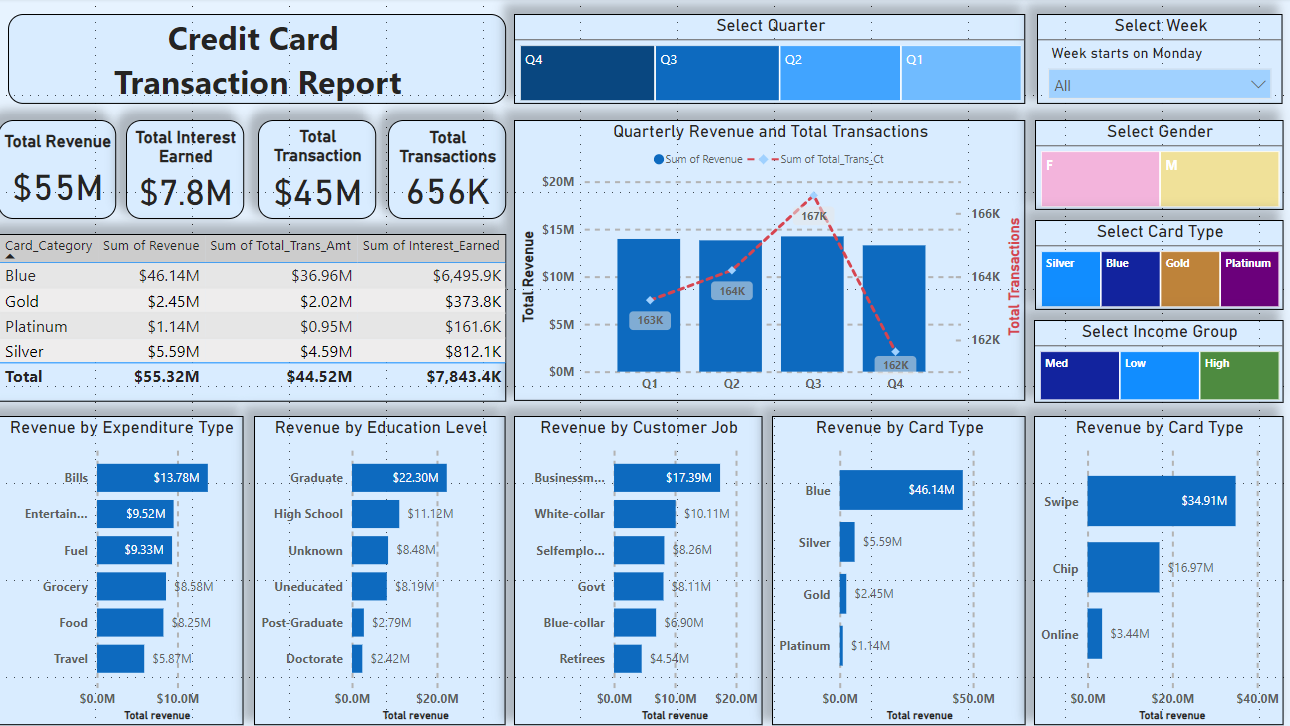

Layout of this report page (visuals, bound fields, positions):
{"tool":"powerbi","page":{"name":"Credit Card Transaction Report","canvas":[1280,720],"ordinal":0},"visuals":[{"type":"textbox","box":[10.3,16,492.6,89.1],"z":0},{"type":"lineStackedColumnComboChart","title":"Quarterly Revenue and Total Transactions","fields":{"Category":["cc_detail.Qtr"],"Y":["Sum(cc_detail.Revenue)"],"Y2":["Sum(cc_detail.Total_Trans_Ct)"]},"box":[510.9,121.1,506.3,277.7],"z":1000},{"type":"barChart","title":"Revenue by Expenditure Type","fields":{"Y":["Sum(cc_detail.Revenue)"],"Category":["cc_detail.Exp_Type"]},"box":[0,413.7,243.4,306.3],"z":2000},{"type":"barChart","title":"Revenue by Education Level","fields":{"Y":["Sum(cc_detail.Revenue)"],"Category":["cust_detail.Education_Level"]},"box":[253.7,413.7,249.1,306.3],"z":3000},{"type":"barChart","title":"Revenue by Customer Job","fields":{"Y":["Sum(cc_detail.Revenue)"],"Category":["cust_detail.Customer_Job"]},"box":[510.9,413.7,245.7,306.3],"z":4000},{"type":"barChart","title":"Revenue by Card Type","fields":{"Y":["Sum(cc_detail.Revenue)"],"Category":["cc_detail.Card_Category"]},"box":[765.7,413.7,251.4,306.3],"z":5000},{"type":"barChart","title":"Revenue by Card Type","fields":{"Y":["Sum(cc_detail.Revenue)"],"Category":["cc_detail.Use_Chip"]},"box":[1025.1,413.7,246.9,306.3],"z":6000},{"type":"tableEx","fields":{"Values":["cc_detail.Card_Category","Sum(cc_detail.Revenue)","Sum(cc_detail.Total_Trans_Amt)","Sum(cc_detail.Interest_Earned)"]},"box":[0,233.1,502.9,165.7],"z":7000},{"type":"card","title":"Total Revenue","fields":{"Values":["Sum(cc_detail.Revenue)"]},"box":[0,121.1,116.6,98.3],"z":8000},{"type":"card","title":"Total Interest Earned","fields":{"Values":["Sum(cc_detail.Interest_Earned)"]},"box":[126.9,121.1,116.6,98.3],"z":9000},{"type":"card","title":"Total Transaction","fields":{"Values":["Sum(cc_detail.Total_Trans_Amt)"]},"box":[257.1,121.1,116.6,98.3],"z":10000},{"type":"card","title":"Total Transactions","fields":{"Values":["Sum(cc_detail.Total_Trans_Ct)"]},"box":[386.3,121.1,116.6,98.3],"z":11000},{"type":"slicer","title":"Select Week ","fields":{"Values":["cc_detail.Week_Start_Date"]},"box":[1028.6,16,243.4,89.1],"z":12000},{"type":"treemap","title":"Select Quarter","fields":{"Group":["cc_detail.Qtr"],"Values":["Avg(cust_detail.Client_Num)"]},"box":[510.9,16,506.3,89.1],"z":13000},{"type":"treemap","title":"Select Gender","fields":{"Values":["Avg(cust_detail.Client_Num)"],"Group":["cust_detail.Gender"]},"box":[1026.3,121.1,245.7,89.1],"z":14000},{"type":"treemap","title":"Select Card Type","fields":{"Values":["Avg(cust_detail.Client_Num)"],"Group":["cc_detail.Card_Category"]},"box":[1026.3,219.4,245.7,89.1],"z":15000},{"type":"treemap","title":"Select Income Group","fields":{"Values":["Avg(cust_detail.Client_Num)"],"Group":["cust_detail.IncomeGroup"]},"box":[1025.1,318.9,246.9,82.3],"z":16000}]}

Visuals, with their boxes in screenshot pixels (x1, y1, x2, y2), scaled from the page's 1280x720 canvas onto the 1290x726 screenshot:
textbox: <bbox>10, 16, 507, 106</bbox>
"Quarterly Revenue and Total Transactions" lineStackedColumnComboChart: <bbox>515, 122, 1025, 402</bbox>
"Revenue by Expenditure Type" barChart: <bbox>0, 417, 245, 725</bbox>
"Revenue by Education Level" barChart: <bbox>256, 417, 507, 725</bbox>
"Revenue by Customer Job" barChart: <bbox>515, 417, 763, 725</bbox>
"Revenue by Card Type" barChart: <bbox>772, 417, 1025, 725</bbox>
"Revenue by Card Type" barChart: <bbox>1033, 417, 1282, 725</bbox>
tableEx - cc_detail.Card_Category x Sum(cc_detail.Revenue): <bbox>0, 235, 507, 402</bbox>
"Total Revenue" card: <bbox>0, 122, 118, 221</bbox>
"Total Interest Earned" card: <bbox>128, 122, 245, 221</bbox>
"Total Transaction" card: <bbox>259, 122, 377, 221</bbox>
"Total Transactions" card: <bbox>389, 122, 507, 221</bbox>
"Select Week " slicer: <bbox>1037, 16, 1282, 106</bbox>
"Select Quarter" treemap: <bbox>515, 16, 1025, 106</bbox>
"Select Gender" treemap: <bbox>1034, 122, 1282, 212</bbox>
"Select Card Type" treemap: <bbox>1034, 221, 1282, 311</bbox>
"Select Income Group" treemap: <bbox>1033, 322, 1282, 405</bbox>
